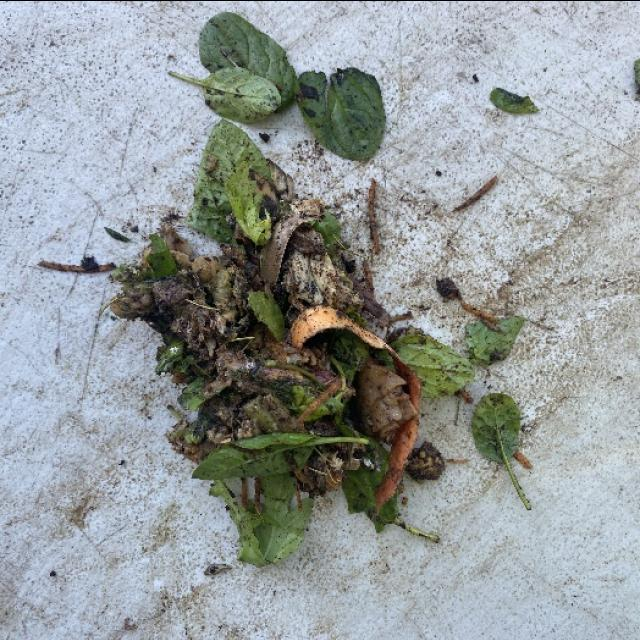organik: (132, 41, 504, 555)
